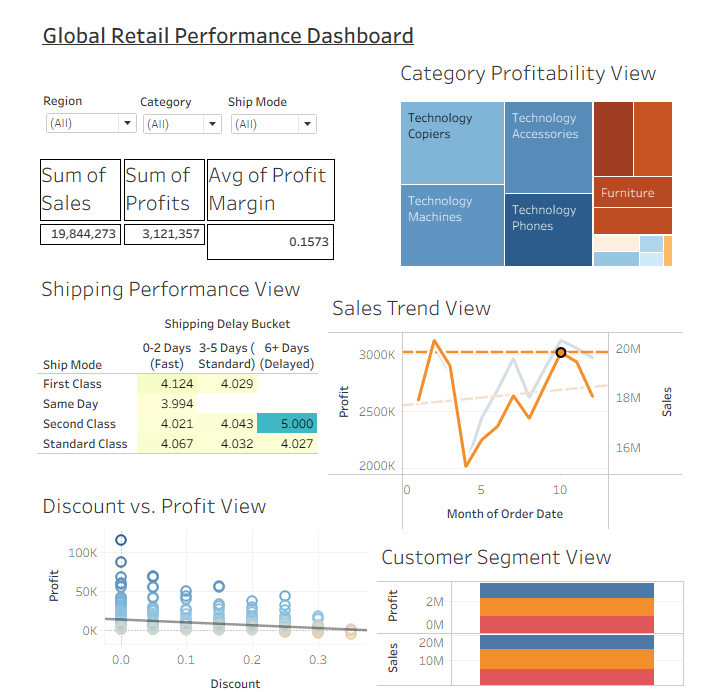

This screenshot's page, from the dashboard's own definition file:
{"tool":"tableau","page":{"name":"Global Retail Performance Dashboard","canvas":[650,860],"ordinal":0},"visuals":[{"type":"title","box":[3,15.4,428,64.5]},{"type":"worksheet","title":"Category Profitability View","mark":"Automatic","box":[360,66,280,319.4]},{"type":"filter","title":"Avg of Profit Margin","param":"[federated.0rmz1au1f9z0fe18ah7mr1csm0d9].[none:region:nk]","box":[6,116.7,97,64.5]},{"type":"filter","title":"Category Profitability View","param":"[federated.0rmz1au1f9z0fe18ah7mr1csm0d9].[none:category:nk]","box":[103,118.2,85,63]},{"type":"filter","title":"Shipping Performance View","param":"[federated.0rmz1au1f9z0fe18ah7mr1csm0d9].[none:ship_mode:nk]","box":[191,118.2,92,58.4]},{"type":"worksheet","title":"Sum of Sales","mark":"Automatic","box":[3,199.6,84,144.4]},{"type":"worksheet","title":"Sum of Profits","mark":"Automatic","box":[87,199.6,89,144.4]},{"type":"worksheet","title":"Avg of Profit Margin","mark":"Automatic","box":[170,199.6,128,124.4]},{"type":"worksheet","title":"Shipping Performance View","mark":"Automatic","rows":["ship_mode"],"cols":["Calculation_0764727191113732"],"box":[0,336.3,326,297.9]},{"type":"worksheet","title":"Sales Trend View","mark":"Automatic","rows":["profit","sales"],"cols":["order_date"],"box":[291,365.5,355,290.2]},{"type":"worksheet","title":"Customer Segment View","mark":"Automatic","rows":["profit","sales"],"box":[340,666.5,307,182.8]}]}

Visuals, with their boxes on the page's 650x860 design canvas (x1, y1, x2, y2). These are canvas units, not pixel positions in the 725x692 screenshot, which may show the page scaled, cropped or inside an application window:
title: locate(3, 15, 431, 80)
"Category Profitability View" worksheet: locate(360, 66, 640, 385)
"Avg of Profit Margin" filter: locate(6, 117, 103, 181)
"Category Profitability View" filter: locate(103, 118, 188, 181)
"Shipping Performance View" filter: locate(191, 118, 283, 177)
"Sum of Sales" worksheet: locate(3, 200, 87, 344)
"Sum of Profits" worksheet: locate(87, 200, 176, 344)
"Avg of Profit Margin" worksheet: locate(170, 200, 298, 324)
"Shipping Performance View" worksheet: locate(0, 336, 326, 634)
"Sales Trend View" worksheet: locate(291, 366, 646, 656)
"Customer Segment View" worksheet: locate(340, 666, 647, 849)
